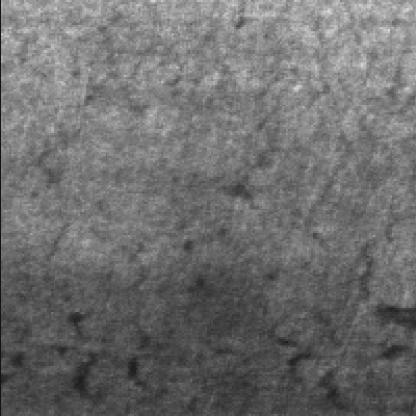crazing: (31, 0, 162, 183), (36, 216, 154, 400)
